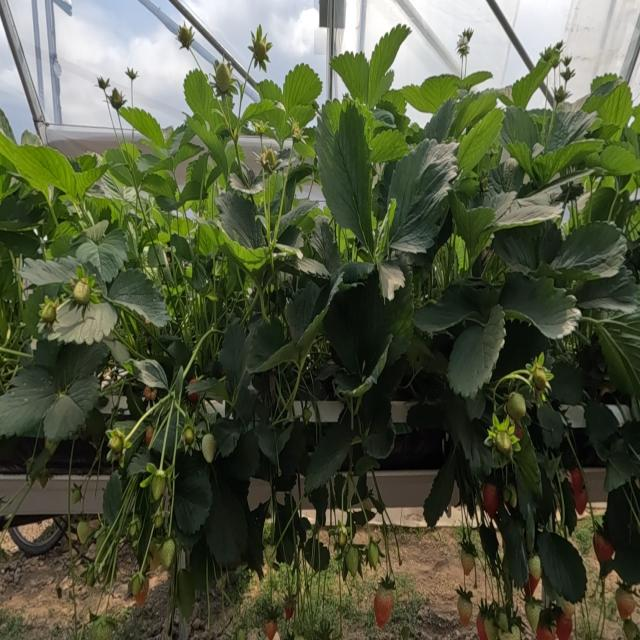Flowers: (460, 28, 473, 44), (126, 67, 137, 83)
Leaves: (325, 272, 413, 377), (316, 102, 372, 244), (389, 140, 456, 252), (499, 273, 579, 337), (449, 306, 505, 397), (0, 134, 76, 200), (584, 400, 639, 491), (440, 391, 495, 475), (203, 467, 247, 567), (550, 222, 627, 279), (593, 309, 639, 401), (305, 412, 355, 492), (0, 365, 56, 435), (108, 269, 170, 327), (44, 376, 99, 441), (537, 531, 586, 602), (414, 284, 479, 334), (368, 24, 410, 101), (48, 299, 117, 345), (75, 223, 127, 282), (173, 461, 211, 538), (458, 107, 503, 172), (450, 195, 495, 260), (576, 266, 639, 312), (495, 186, 562, 229), (216, 190, 264, 248), (534, 137, 600, 179), (424, 443, 457, 526), (248, 316, 296, 371), (582, 81, 631, 134), (275, 490, 310, 564), (497, 504, 527, 586), (401, 75, 463, 114), (184, 69, 221, 133), (219, 321, 249, 399), (189, 117, 227, 177), (546, 109, 599, 152), (120, 107, 165, 156), (57, 343, 107, 387), (450, 92, 498, 137), (286, 281, 321, 339), (512, 57, 552, 107), (493, 228, 539, 271), (282, 64, 321, 114), (330, 52, 368, 101), (222, 430, 259, 480), (20, 256, 78, 286), (310, 219, 341, 273), (188, 532, 216, 591), (501, 106, 538, 149), (420, 74, 458, 112), (551, 360, 583, 405), (106, 149, 143, 186), (0, 195, 41, 228), (424, 98, 455, 141), (213, 418, 246, 457), (363, 419, 395, 459), (279, 255, 330, 280), (488, 158, 524, 193), (369, 130, 407, 163), (600, 145, 639, 175), (537, 403, 563, 447), (280, 200, 317, 230), (74, 165, 107, 196), (103, 472, 122, 525), (303, 535, 330, 572), (255, 419, 276, 464), (142, 173, 176, 200), (177, 569, 195, 620), (134, 360, 167, 387), (241, 101, 276, 124), (137, 153, 175, 174), (186, 152, 208, 188), (458, 71, 491, 90), (381, 89, 406, 114), (177, 180, 200, 206), (128, 448, 150, 475), (168, 340, 190, 366), (156, 196, 178, 213), (321, 547, 329, 562)
Strawberries: (247, 25, 271, 70), (593, 532, 614, 579), (375, 584, 393, 627), (505, 393, 526, 424), (215, 61, 234, 95), (615, 587, 635, 619), (457, 591, 472, 627), (539, 44, 562, 67), (482, 484, 498, 517), (160, 538, 175, 570), (72, 279, 90, 303), (525, 601, 539, 631), (495, 431, 513, 454), (106, 88, 124, 111), (177, 24, 194, 48), (345, 546, 359, 575), (459, 548, 474, 575), (556, 613, 571, 639), (202, 434, 215, 463), (39, 301, 55, 323), (263, 149, 279, 171), (531, 369, 547, 391), (109, 431, 123, 455), (152, 472, 164, 499), (77, 521, 91, 543), (529, 554, 541, 579), (368, 541, 379, 568), (132, 572, 144, 596), (135, 585, 147, 605), (477, 618, 488, 639), (537, 625, 553, 639), (529, 576, 540, 596), (129, 518, 139, 539), (577, 493, 587, 514), (265, 621, 276, 639), (498, 611, 507, 631), (183, 428, 194, 444), (145, 428, 153, 446), (285, 602, 293, 619), (237, 628, 246, 639)
